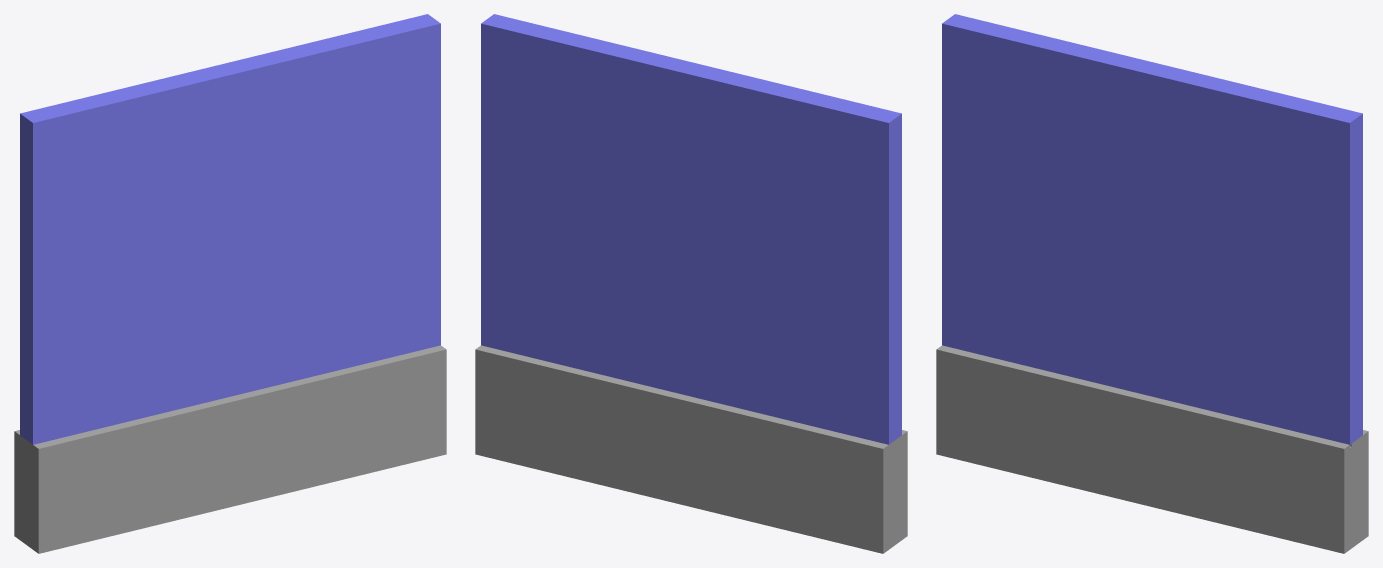
File: Operating_room_Window2-3-1.fbx
3 renders of one model, left to right at view 1: azimuth 30°, elevation 25°; view 2: azimuth 150°, elevation 25°; view 3: azimuth 330°, elevation 25°, orthographic.
Parts seen in each view (by area): view 1: Operating room Window2-3-1, Operating room Window2-3-1.001; view 2: Operating room Window2-3-1, Operating room Window2-3-1.001; view 3: Operating room Window2-3-1, Operating room Window2-3-1.001.
Boxes of the visible parts, box(x1,y1,x2,y2) form: Operating room Window2-3-1: box(20, 14, 440, 444); Operating room Window2-3-1.001: box(14, 345, 446, 553); Operating room Window2-3-1: box(481, 14, 901, 444); Operating room Window2-3-1.001: box(475, 345, 907, 553); Operating room Window2-3-1: box(942, 14, 1362, 444); Operating room Window2-3-1.001: box(936, 345, 1368, 553).
Size of the model in its own units: 12.6 by 12.6 by 1.3.
